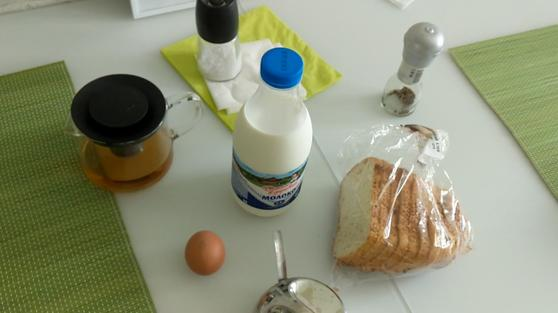egg: (186, 229, 227, 274)
